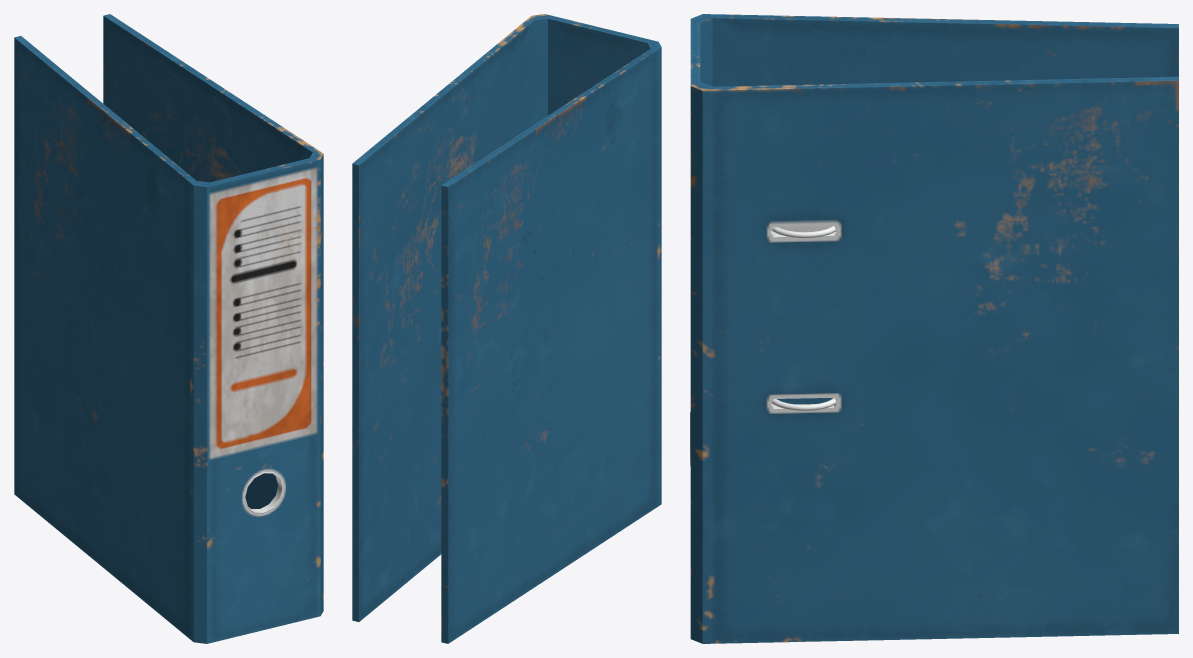
Rendered from SM_Folder_01_Empty.fbx.
The picture shows the model from 3 angles, left to right: view 1: azimuth 30°, elevation 25°; view 2: azimuth 150°, elevation 25°; view 3: azimuth 270°, elevation 25°; orthographic projection. The views are drawn at different scales.
Visible parts, largest first — view 1: SM_Folder_01_Empty; view 2: SM_Folder_01_Empty; view 3: SM_Folder_01_Empty.
Part boxes in pixels (x1,y1,x2,y2): SM_Folder_01_Empty: (14, 14, 323, 643); SM_Folder_01_Empty: (352, 14, 661, 643); SM_Folder_01_Empty: (690, 14, 1178, 643).
Bounding box in the file's own units: 13.95 × 36.03 × 45.
Materials: 1 (1 with a texture image).
